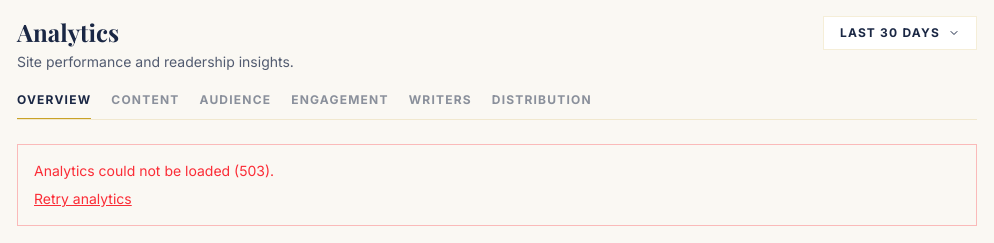
a failed selection shows an error and deliberate retry recovers its data
Expected: the message "Analytics could not be loaded (503). Retry analytics" is shown, [17,144,977,226]
Expected: the message shows "503", [34,162,274,179]
Click the button "Retry analytics".
click(83, 199)  # box [34,189,132,209]
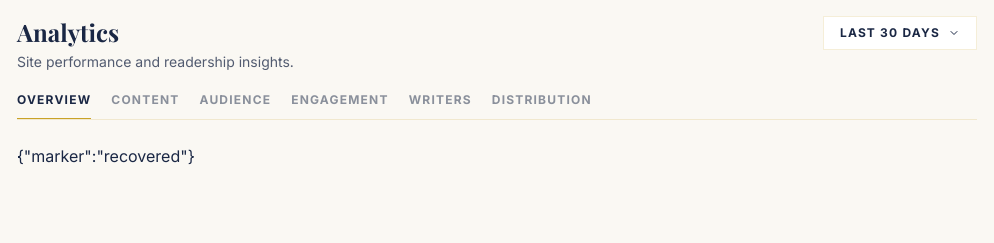
Expected: the text "{\"marker\":\"recovered\"}" is shown, [17,146,194,166]
Expected: the message "Analytics could not be loaded (503). Retry analytics" is gone
